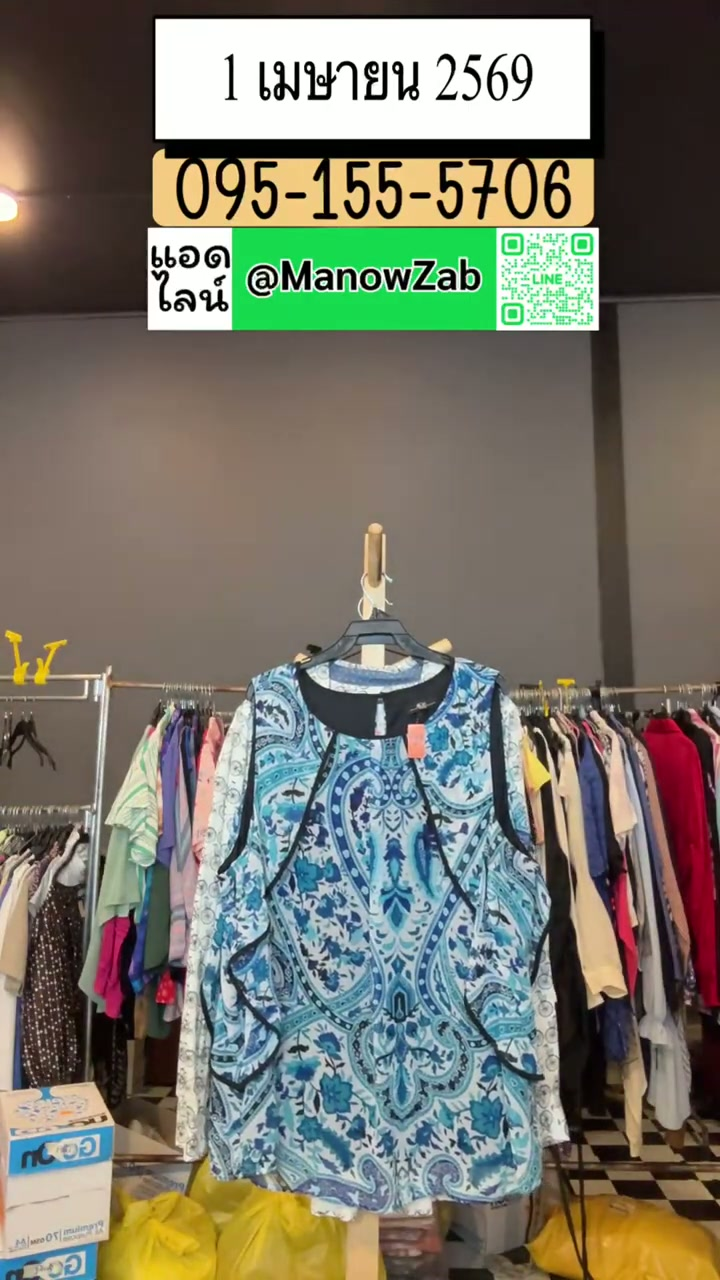display_shirt: (178, 655, 567, 1216)
